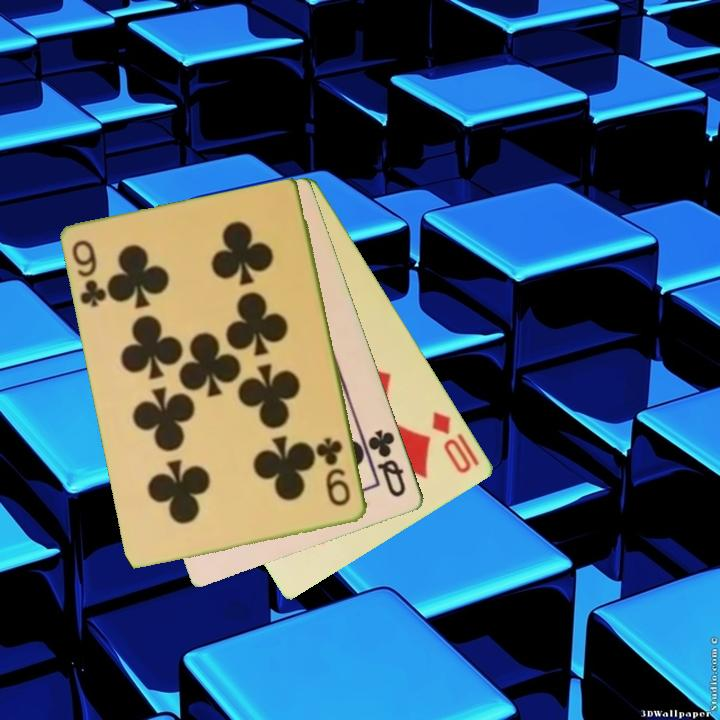10d: (428, 407, 475, 477)
9c: (69, 237, 110, 311), (316, 434, 354, 510)
Qc: (364, 426, 409, 501)
